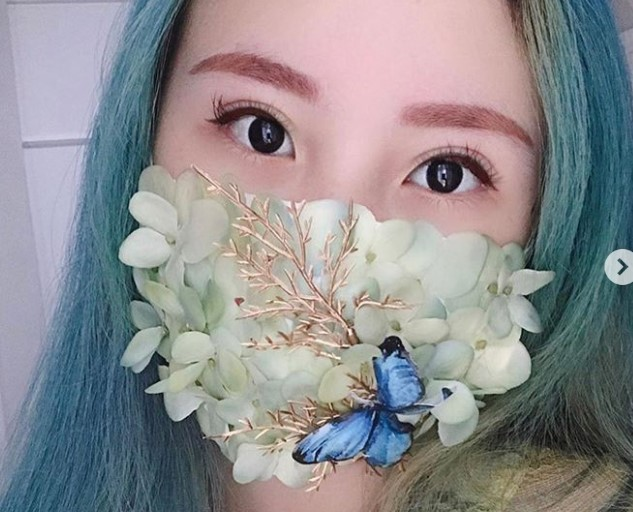face_with_mask: (113, 3, 562, 493)
